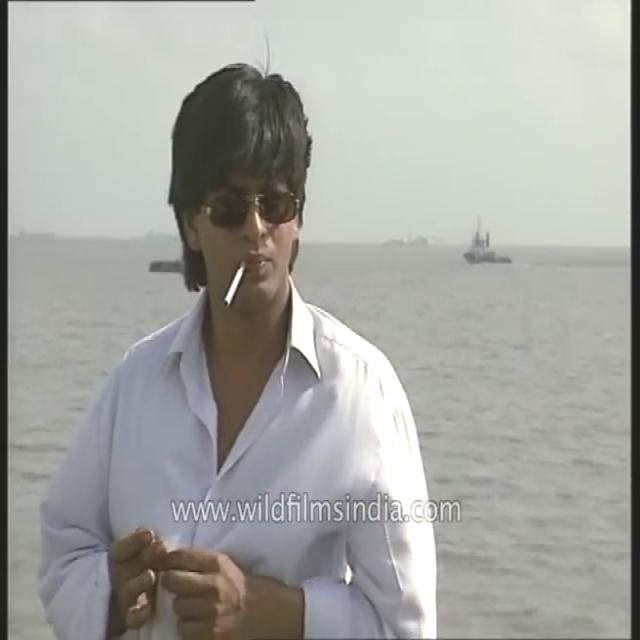Smooking: (215, 264, 251, 314)
